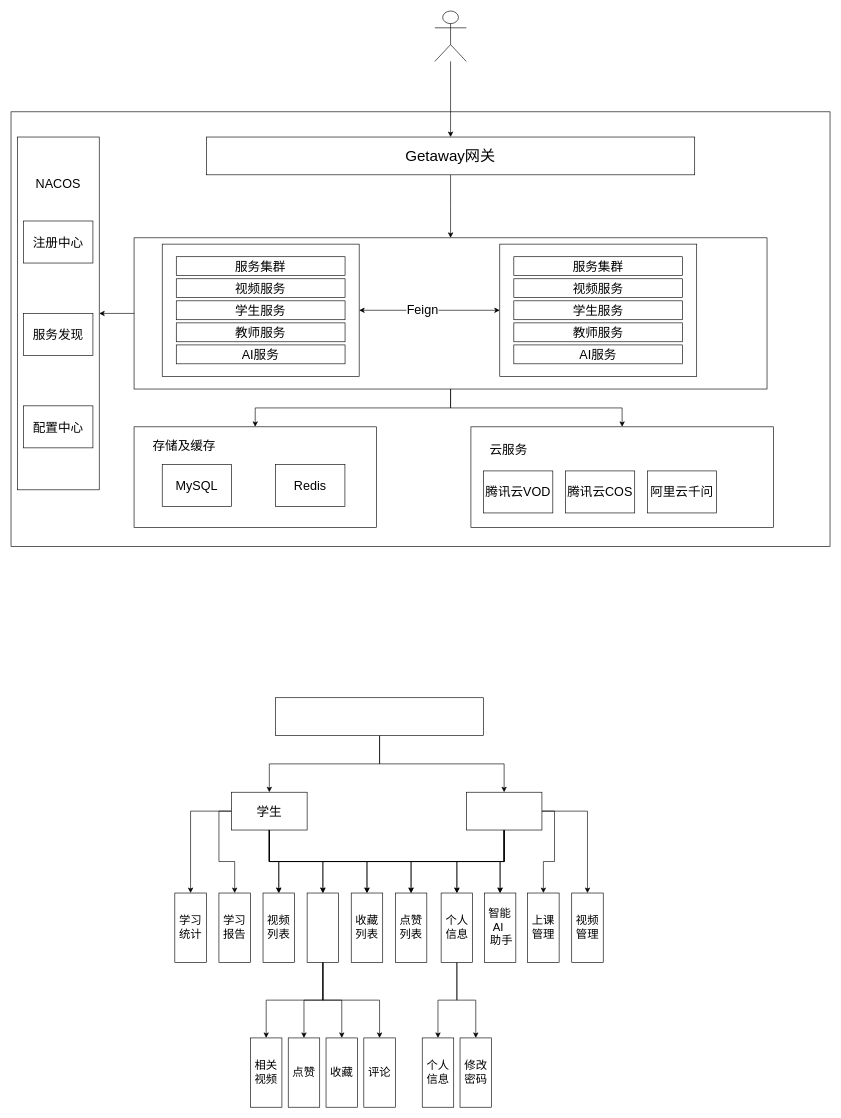
The diagram is 841 pixels wide and 1118 high, and some of its shapes have lost their labels. Each missing label, with the centre of its shape:
"基于云服务的智慧教室系统" goes at point (379, 716).
"教师" goes at point (504, 811).
"用户" goes at point (450, 35).
"视频播放" goes at point (322, 927).
